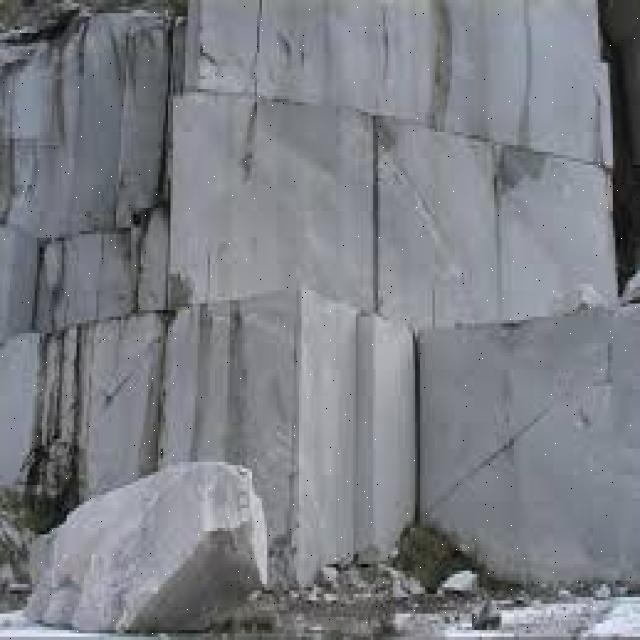Metamorphic: (3, 4, 635, 634)
